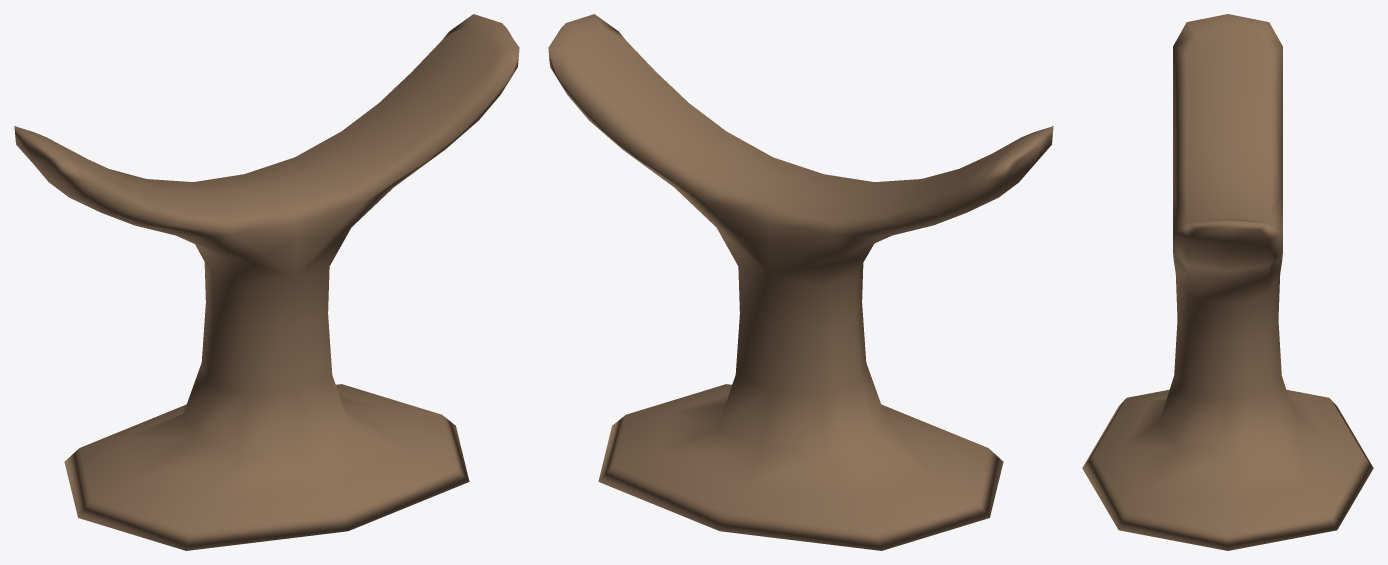
Rendered from egy_headrest.fbx.
The picture shows the model from 3 angles, left to right: view 1: azimuth 30°, elevation 25°; view 2: azimuth 150°, elevation 25°; view 3: azimuth 270°, elevation 25°; orthographic projection. The views are drawn at different scales.
Parts seen in each view (by area): view 1: headrest; view 2: headrest; view 3: headrest.
Boxes of the visible parts, bbox=[...] form: headrest: bbox=[14, 14, 519, 550]; headrest: bbox=[548, 14, 1053, 550]; headrest: bbox=[1082, 14, 1373, 550].
Size of the model in its own units: 0.7742 by 0.628 by 0.4539.
